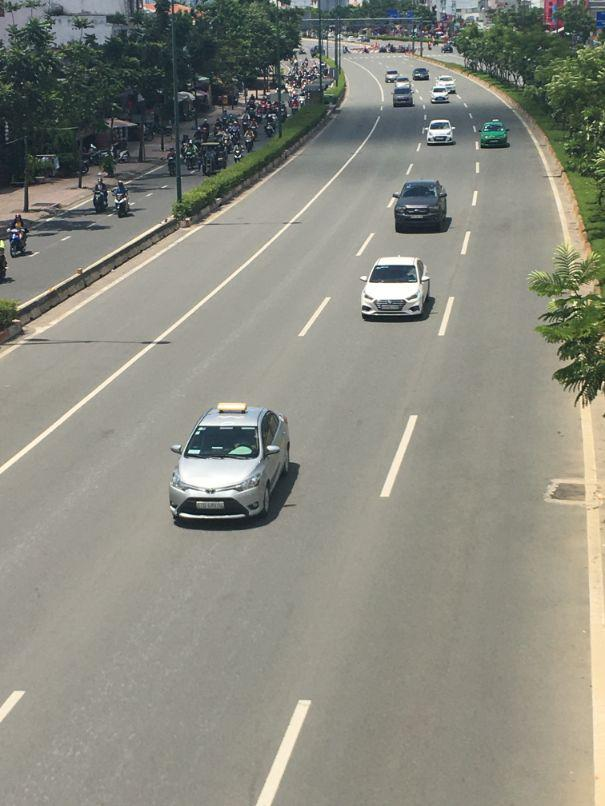car: (168, 401, 295, 530), (361, 258, 434, 323), (393, 179, 450, 235), (478, 119, 509, 147), (428, 119, 456, 144), (392, 82, 413, 107), (413, 68, 430, 82)
motorbike: (115, 188, 131, 217)
